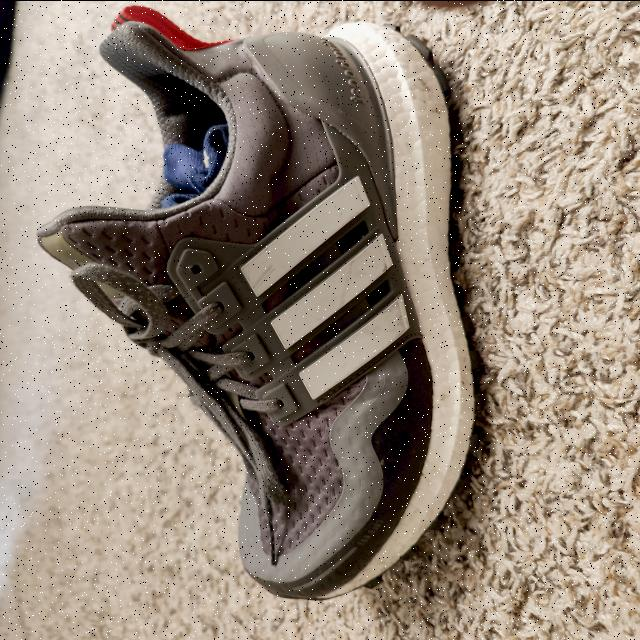black shoes: (42, 11, 472, 597)
